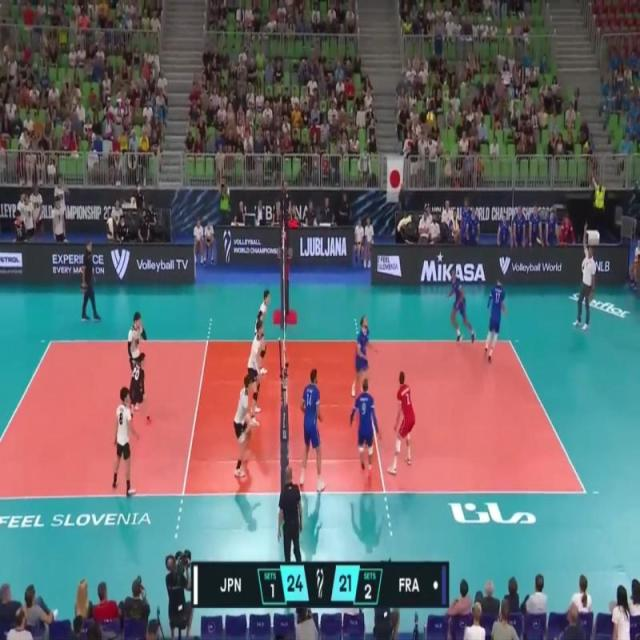volleyball: (425, 110, 434, 124)
